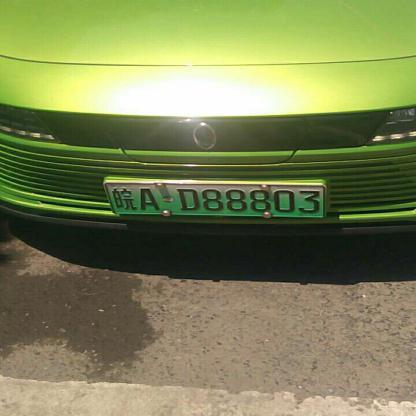lp: (104, 181, 324, 217)
